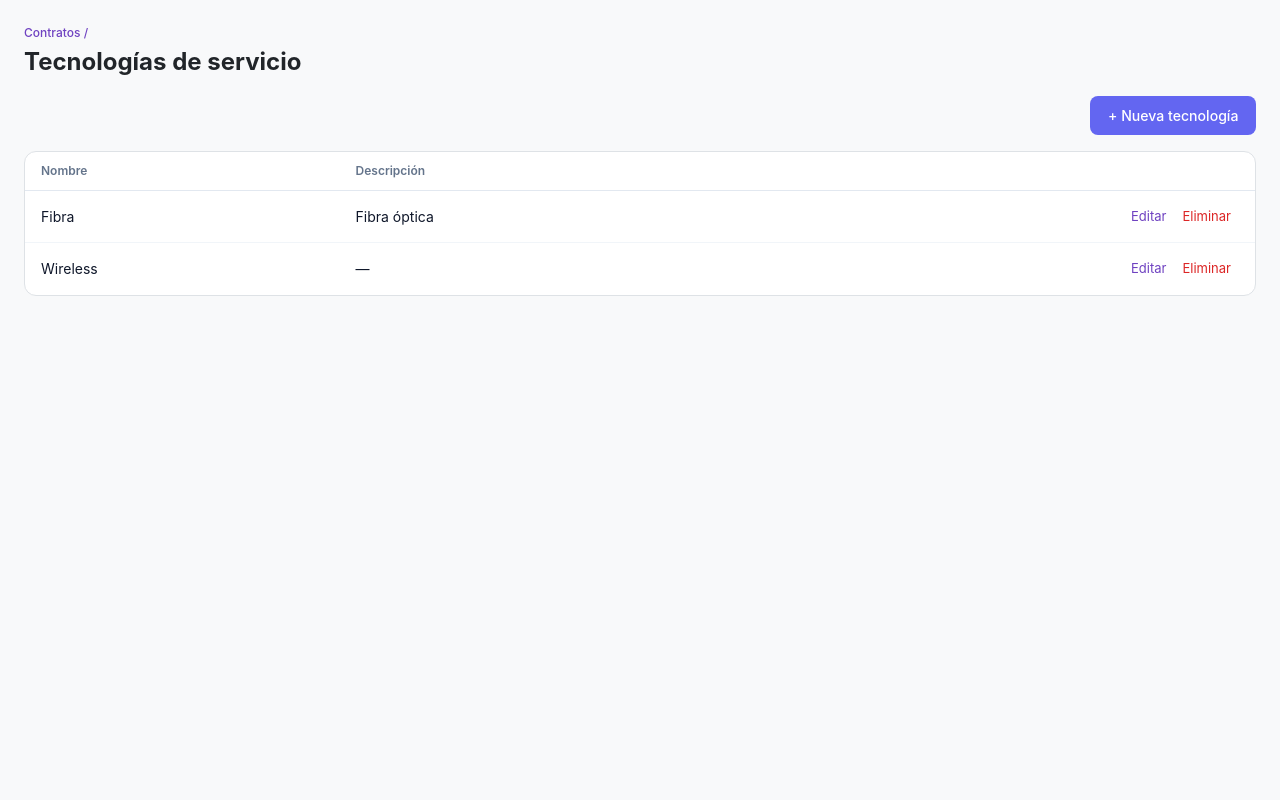
Scenario: CP-7.3: duplicate name 409 inline error › shows inline error for SERVICE_TECHNOLOGY_NAME_CONFLICT
Click the button "+ Nueva tecnología": coordinates (1173, 115) [1090,96,1256,135]
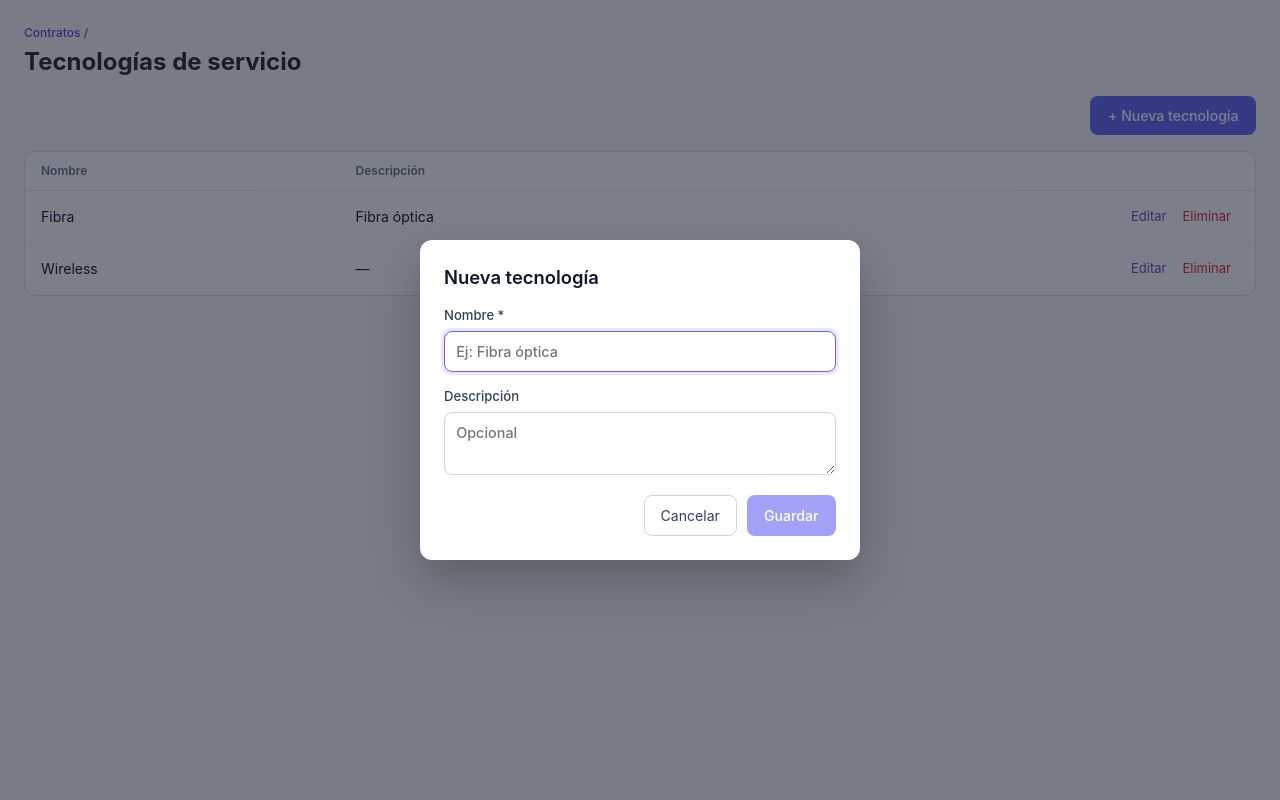
In the field with placeholder "Ej: Fibra óptica": coordinates (640, 352) [444,331,836,372], type "Fibra"
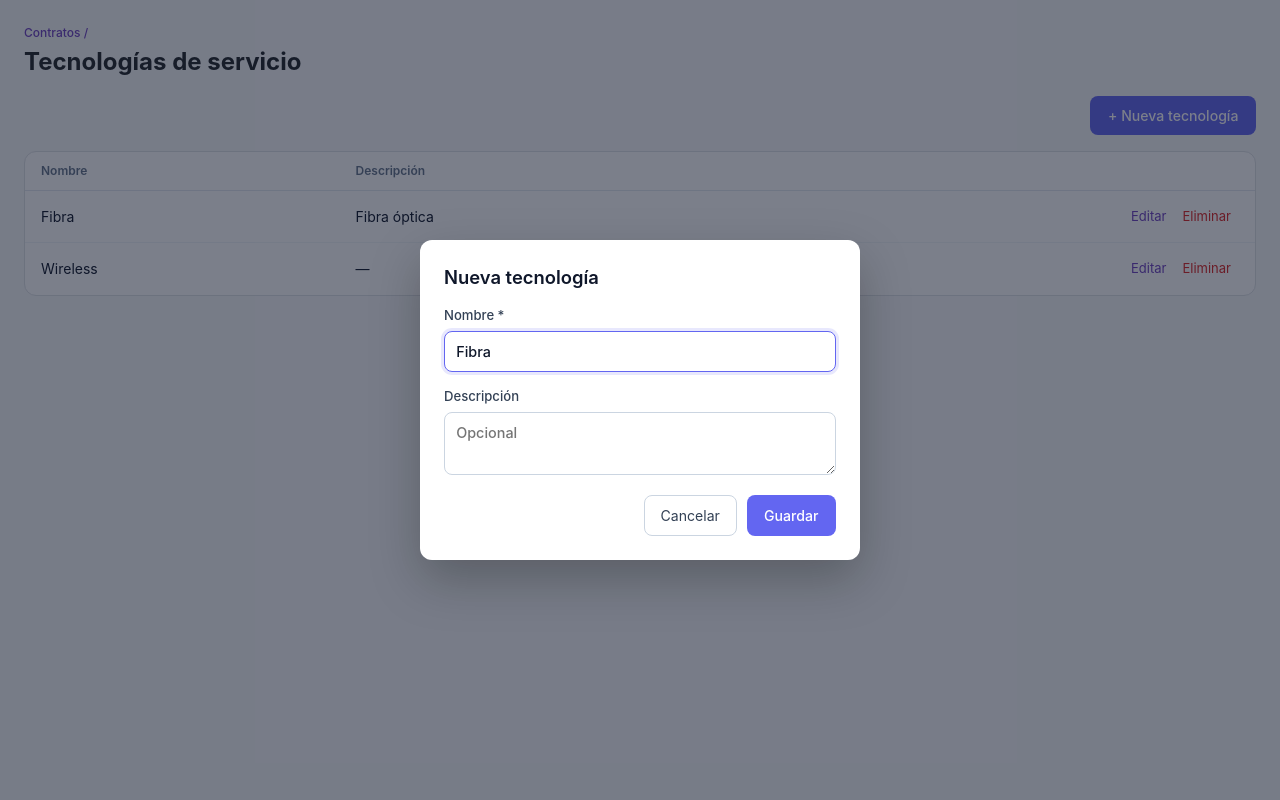
Click the button "Guardar": coordinates (791, 516) [746,496,836,536]
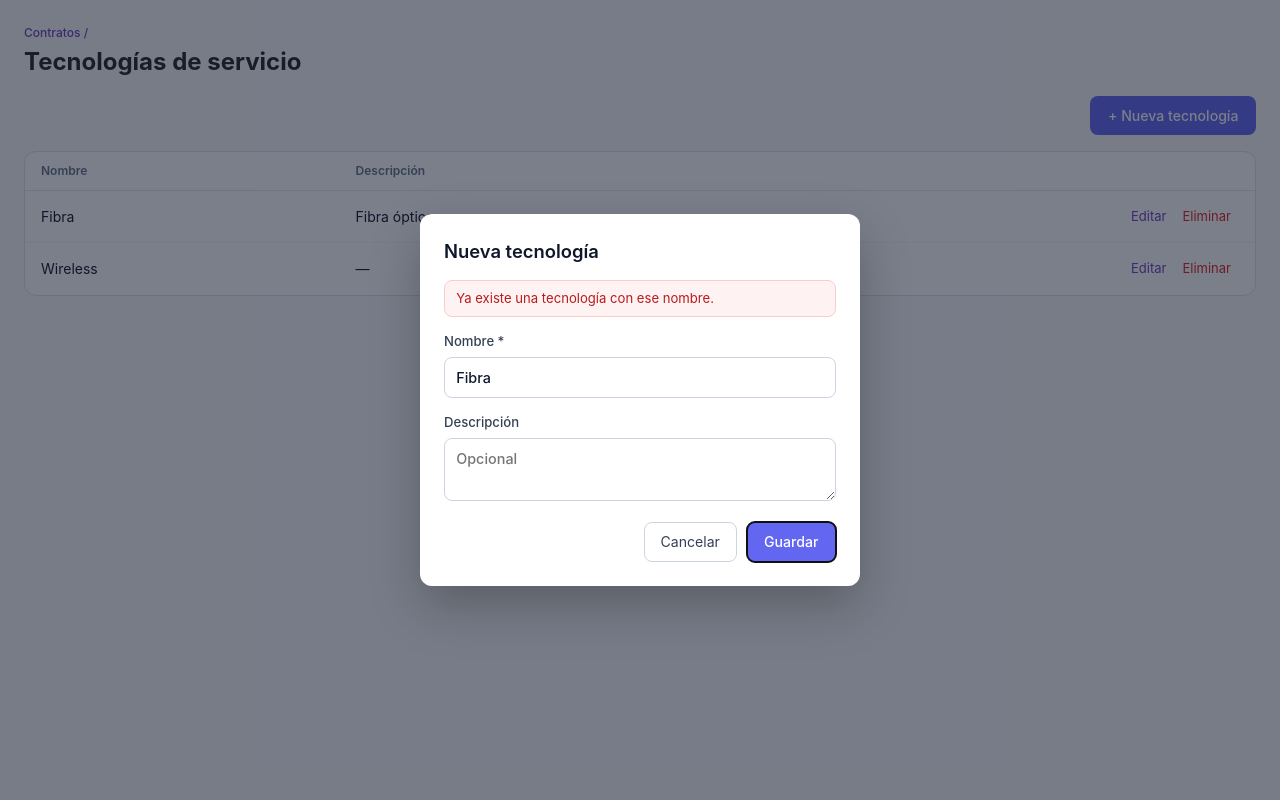
Expected: the text "Ya existe una tecnología con ese nombre." is shown, [444,280,836,318]
